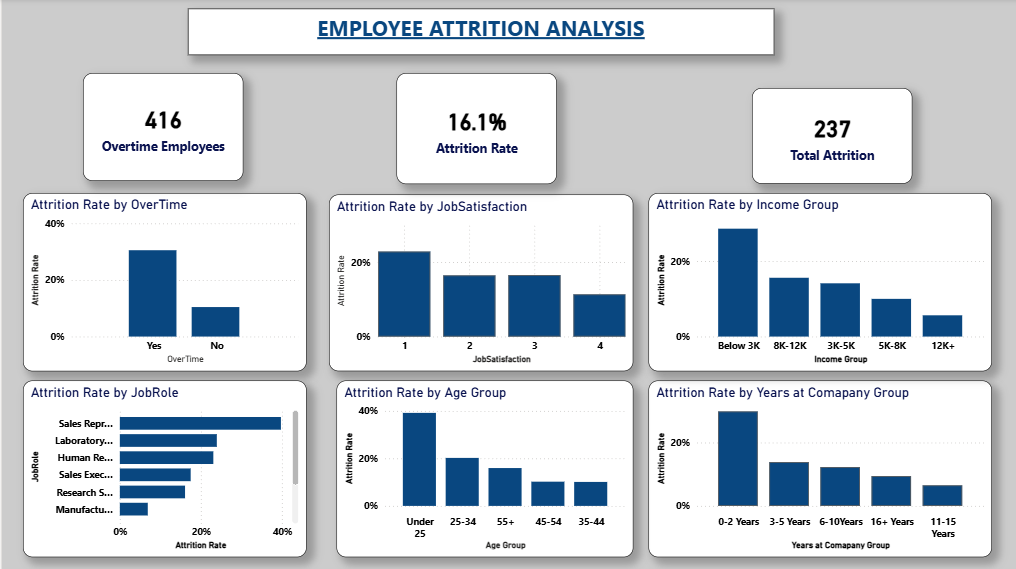

What the dashboard file says about the page in this screenshot:
{"tool":"powerbi","page":{"name":"Attrition Ananlysis","canvas":[1280,720],"ordinal":1},"visuals":[{"type":"textbox","box":[234.3,13.2,738.9,58.6],"z":0},{"type":"clusteredColumnChart","fields":{"Category":["HR_Employee_Data.OverTime"],"Y":["HR_Employee_Data.Attrition Rate"]},"box":[26.5,245.7,357.2,224.9],"z":1000},{"type":"clusteredColumnChart","fields":{"Category":["HR_Employee_Data.JobSatisfaction"],"Y":["HR_Employee_Data.Attrition Rate"]},"box":[412,247.6,383.6,223],"z":2000},{"type":"clusteredColumnChart","fields":{"Category":["HR_Employee_Data.Years at Comapany Group"],"Y":["HR_Employee_Data.Attrition Rate"]},"box":[814.5,481.9,432.8,223],"z":3000},{"type":"card","fields":{"Values":["HR_Employee_Data.Total Attrition"]},"box":[944.9,113.4,202.2,120.9],"z":4000},{"type":"card","fields":{"Values":["HR_Employee_Data.Attrition Rate"]},"box":[497,94.5,202.2,139.8],"z":5000},{"type":"card","fields":{"Values":["HR_Employee_Data.Overtime Employees"]},"box":[102,94.5,202.2,136.1],"z":6000},{"type":"clusteredColumnChart","fields":{"Category":["HR_Employee_Data.Age Group"],"Y":["HR_Employee_Data.Attrition Rate"]},"box":[421.4,481.9,374.2,223],"z":7000},{"type":"clusteredColumnChart","fields":{"Category":["HR_Employee_Data.Income Group"],"Y":["HR_Employee_Data.Attrition Rate"]},"box":[814.5,245.7,432.8,224.9],"z":8000},{"type":"clusteredBarChart","fields":{"Category":["HR_Employee_Data.JobRole"],"Y":["HR_Employee_Data.Attrition Rate"]},"box":[26.5,481.9,357.2,223],"z":9000}]}

Visuals, with their boxes in screenshot pixels (x1, y1, x2, y2), scaled from the page's 1280x720 canvas onto the 1016x569 screenshot:
textbox: {"x1": 186, "y1": 10, "x2": 772, "y2": 57}
clusteredColumnChart - HR_Employee_Data.OverTime x HR_Employee_Data.Attrition Rate: {"x1": 21, "y1": 194, "x2": 305, "y2": 372}
clusteredColumnChart - HR_Employee_Data.JobSatisfaction x HR_Employee_Data.Attrition Rate: {"x1": 327, "y1": 196, "x2": 632, "y2": 372}
clusteredColumnChart - HR_Employee_Data.Years at Comapany Group x HR_Employee_Data.Attrition Rate: {"x1": 647, "y1": 381, "x2": 990, "y2": 557}
card - HR_Employee_Data.Total Attrition: {"x1": 750, "y1": 90, "x2": 911, "y2": 185}
card - HR_Employee_Data.Attrition Rate: {"x1": 394, "y1": 75, "x2": 555, "y2": 185}
card - HR_Employee_Data.Overtime Employees: {"x1": 81, "y1": 75, "x2": 241, "y2": 182}
clusteredColumnChart - HR_Employee_Data.Age Group x HR_Employee_Data.Attrition Rate: {"x1": 334, "y1": 381, "x2": 632, "y2": 557}
clusteredColumnChart - HR_Employee_Data.Income Group x HR_Employee_Data.Attrition Rate: {"x1": 647, "y1": 194, "x2": 990, "y2": 372}
clusteredBarChart - HR_Employee_Data.JobRole x HR_Employee_Data.Attrition Rate: {"x1": 21, "y1": 381, "x2": 305, "y2": 557}
